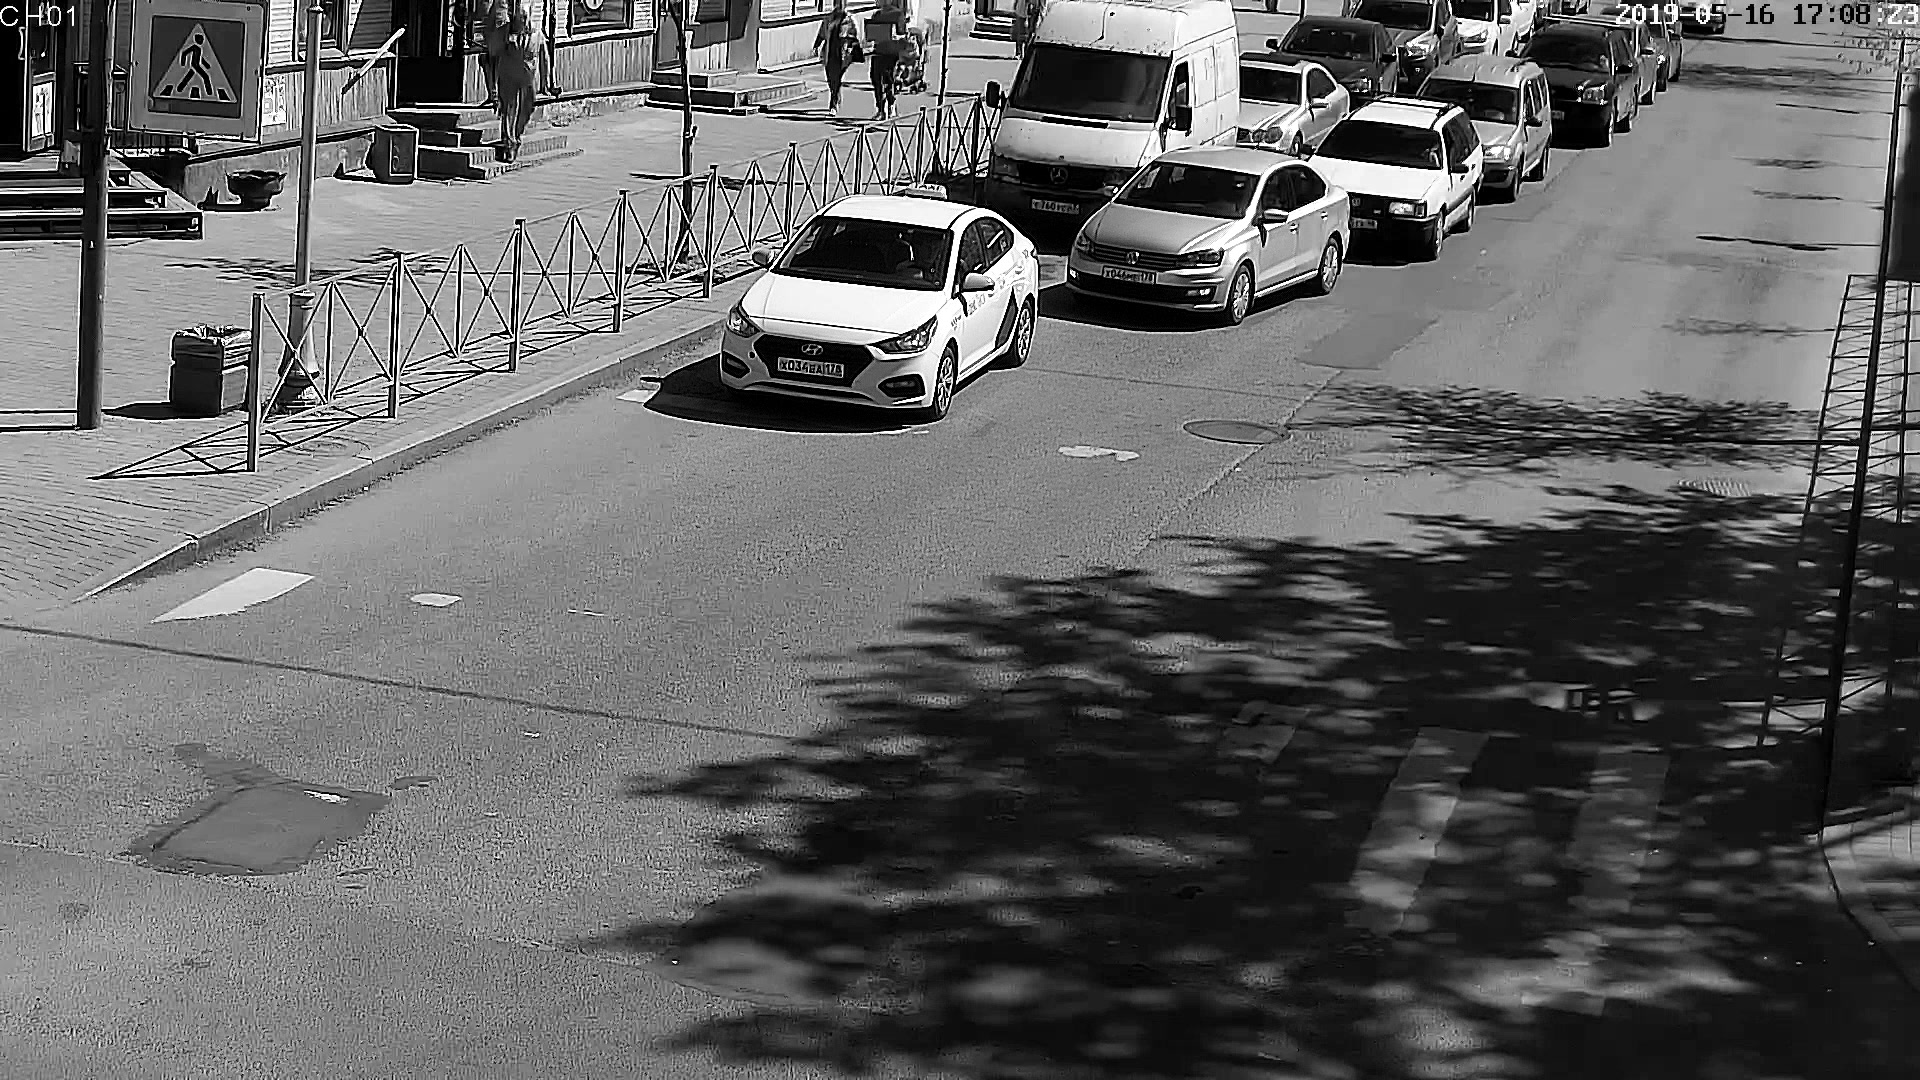car_num: (775, 352, 843, 384), (1218, 123, 1295, 146), (1102, 264, 1159, 289), (1030, 194, 1073, 216), (1350, 218, 1375, 232), (1549, 109, 1567, 121)
